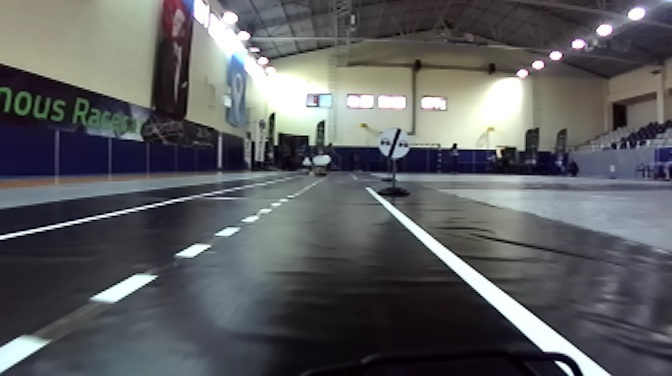sollama_serbest: (378, 129, 410, 160)
